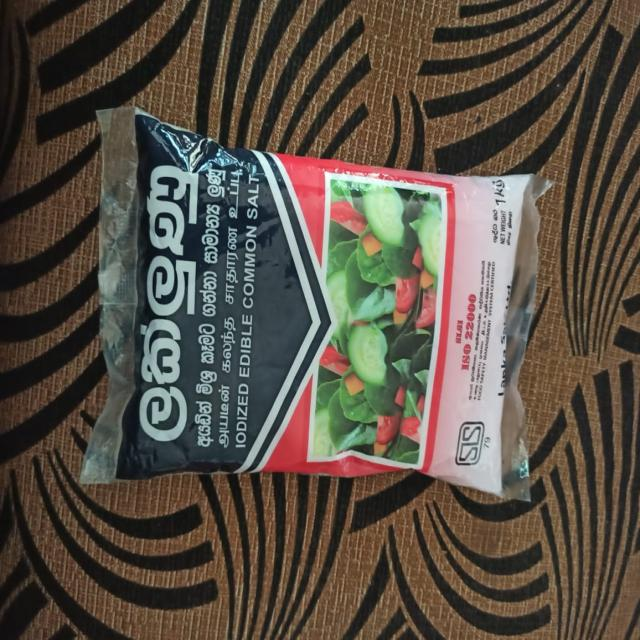Lak Lunu: (74, 88, 549, 546)
